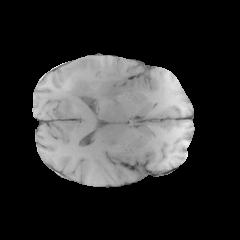glioma: (55, 56, 124, 105)
